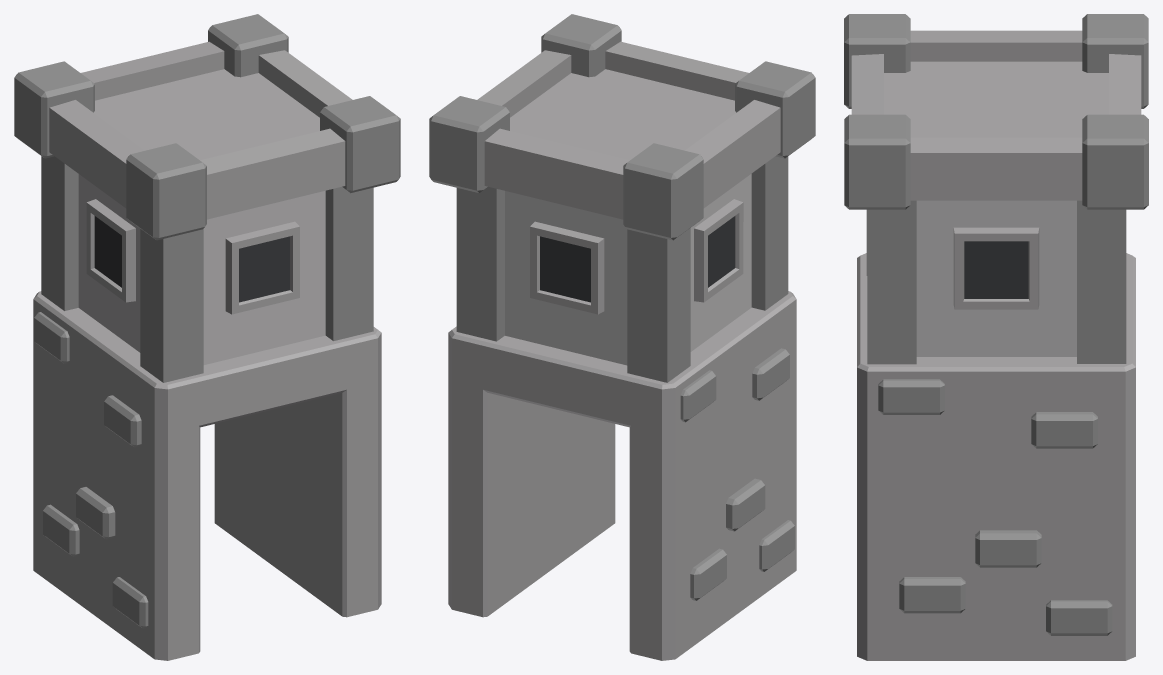
Rendered from SM_Tower_01_A.fbx.
The picture shows the model from 3 angles, left to right: view 1: azimuth 30°, elevation 25°; view 2: azimuth 150°, elevation 25°; view 3: azimuth 270°, elevation 25°; orthographic projection. The views are drawn at different scales.
Visible parts, largest first — view 1: pCube711; view 2: pCube711; view 3: pCube711.
Part boxes in pixels (<box>): pCube711: <box>14,14,400,660</box>; pCube711: <box>429,14,815,660</box>; pCube711: <box>844,14,1148,660</box>.
Bounding box in the file's own units: 285 × 542 × 285.
Materials: 1 (1 with a texture image).
